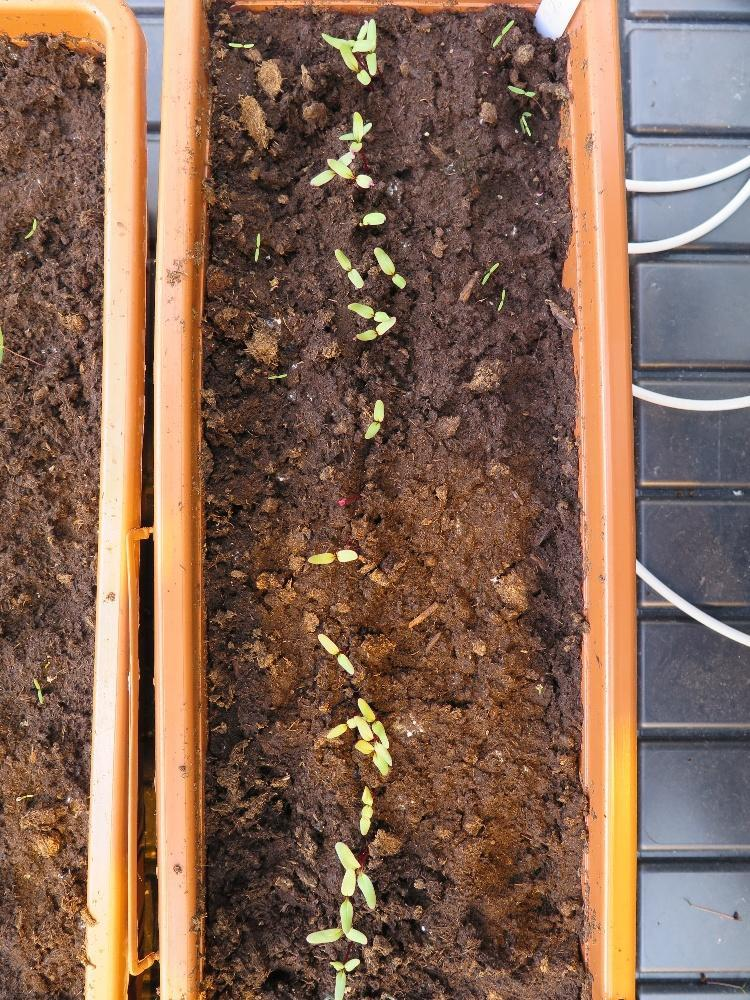crop: (315, 631, 355, 678), (371, 245, 407, 288), (332, 246, 364, 290), (304, 547, 358, 566), (362, 396, 383, 440)
weed: (489, 16, 514, 49), (479, 259, 500, 287), (505, 82, 537, 98), (29, 675, 43, 706), (21, 216, 38, 240), (226, 40, 254, 50), (252, 229, 260, 263), (263, 371, 289, 381), (496, 286, 505, 313)
